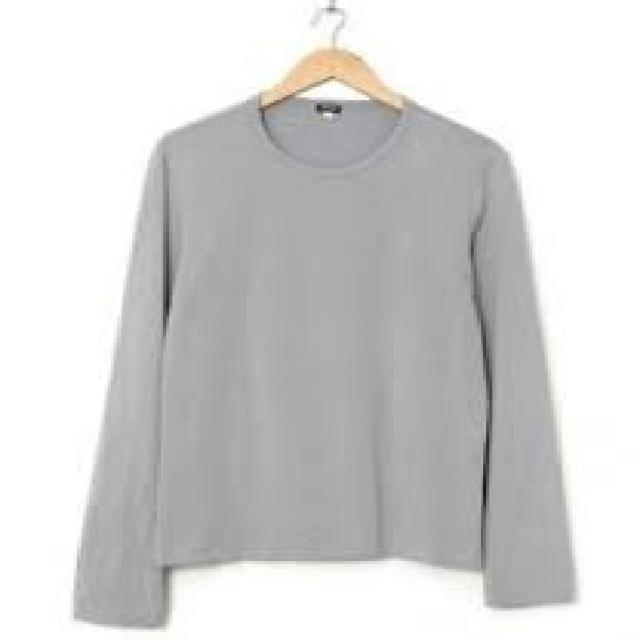plain: (65, 90, 579, 616)
